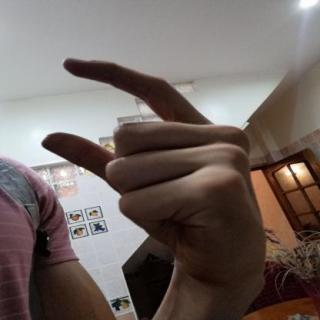DELL: (30, 50, 286, 293)
